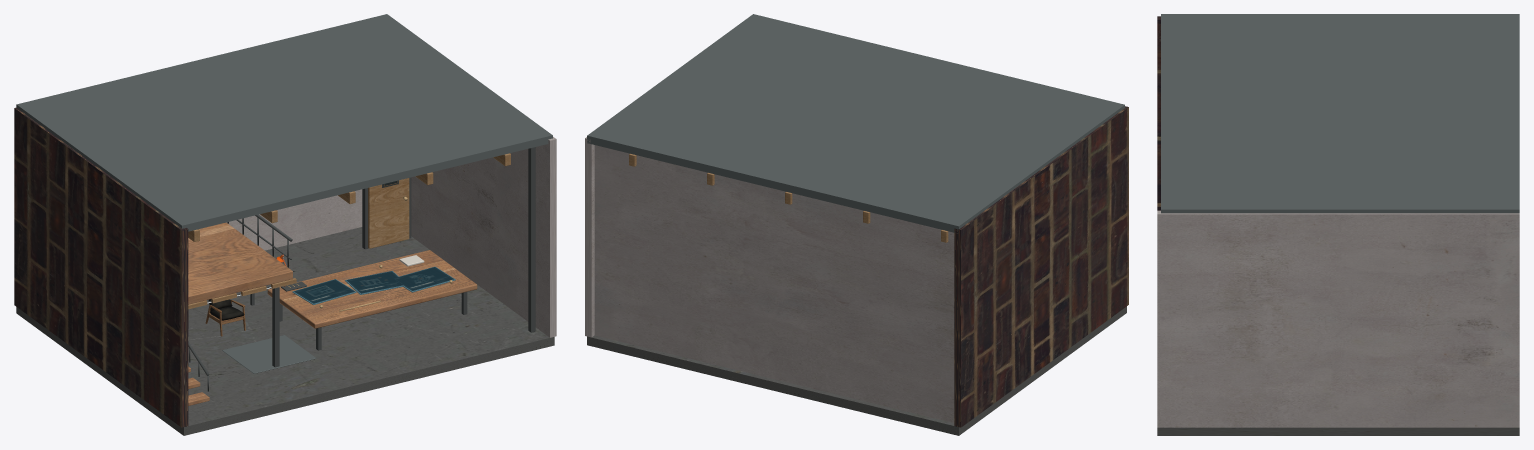
Rendered from loft-room.glb.
3 renders of one model, left to right at view 1: azimuth 30°, elevation 25°; view 2: azimuth 150°, elevation 25°; view 3: azimuth 270°, elevation 25°, orthographic. The views are drawn at different scales.
Visible parts, largest first — view 1: ceiling, left brick wall, concrete floor, right plaster wall, oak workbench top, loft oak deck, rear plaster wall, contact oak door, floor rug, black steel post.003, modern_arm_chair_01 / modern_arm_chair_01, project 1 blueprint artwork (+4 smaller); view 2: rear plaster wall, ceiling, left brick wall, concrete floor, right plaster wall; view 3: right plaster wall, ceiling, concrete floor, left brick wall.
Boxes of the visible parts, box(x1,y1,x2,y2) form: ceiling: box(16, 14, 552, 231); left brick wall: box(14, 107, 188, 427); concrete floor: box(16, 227, 554, 435); right plaster wall: box(411, 137, 556, 337); oak workbench top: box(267, 250, 477, 328); loft oak deck: box(188, 222, 292, 304); rear plaster wall: box(226, 189, 362, 250); contact oak door: box(368, 178, 409, 248); floor rug: box(222, 335, 316, 373); black steel post.003: box(528, 147, 535, 332); modern_arm_chair_01 / modern_arm_chair_01: box(205, 299, 245, 336); project 1 blueprint artwork: box(294, 279, 354, 303); rear plaster wall: box(594, 145, 954, 422); ceiling: box(587, 14, 1124, 233); left brick wall: box(954, 106, 1128, 427); concrete floor: box(587, 306, 1126, 435); right plaster wall: box(585, 137, 594, 337); right plaster wall: box(1157, 210, 1519, 427); ceiling: box(1161, 14, 1519, 213); concrete floor: box(1157, 427, 1519, 435); left brick wall: box(1157, 16, 1160, 210).
Bounding box in the file's own units: 12.54 × 6.68 × 9.7.
26 materials, 16 textured.
